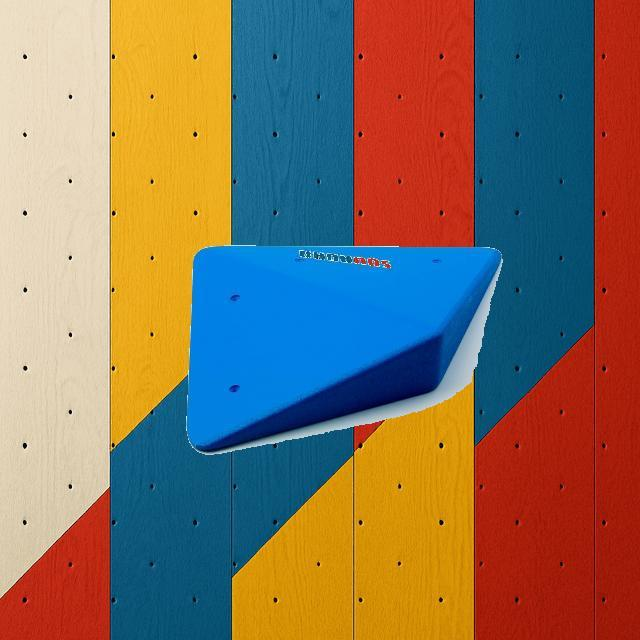Volume: (184, 244, 502, 453)
